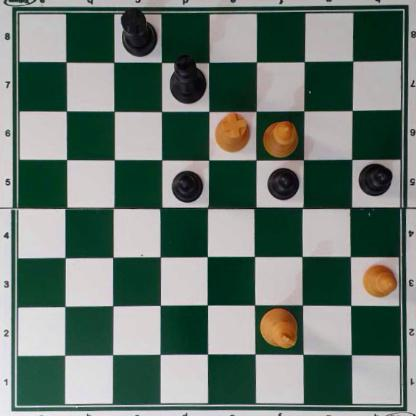black-king: (169, 53, 207, 105)
black-pawn: (357, 160, 392, 196), (169, 168, 204, 203), (267, 165, 299, 201)
black-rook: (118, 8, 160, 56)
white-bishop: (262, 120, 297, 158)
white-king: (258, 306, 298, 349)
white-pawn: (360, 261, 397, 298)
white-rook: (214, 112, 251, 153)
